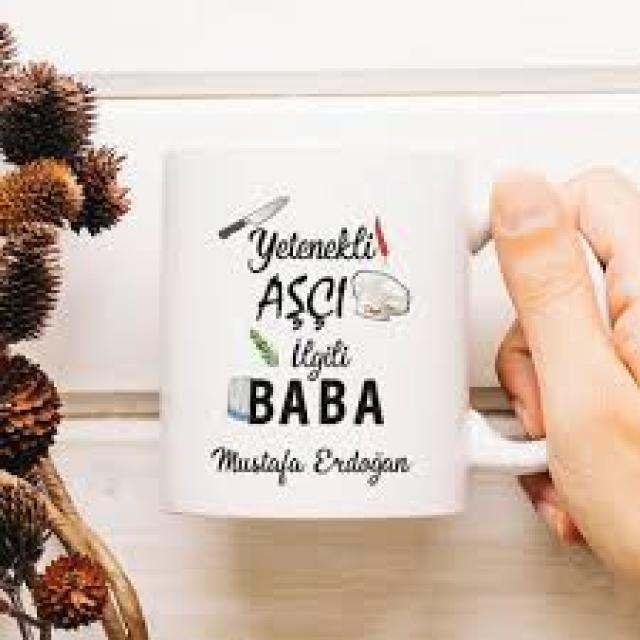taza: (162, 140, 612, 518)
